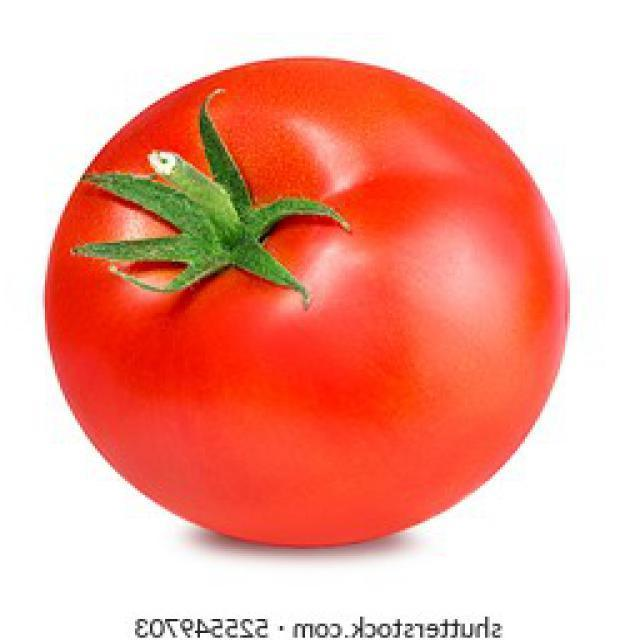Tomato: (43, 57, 572, 552)
